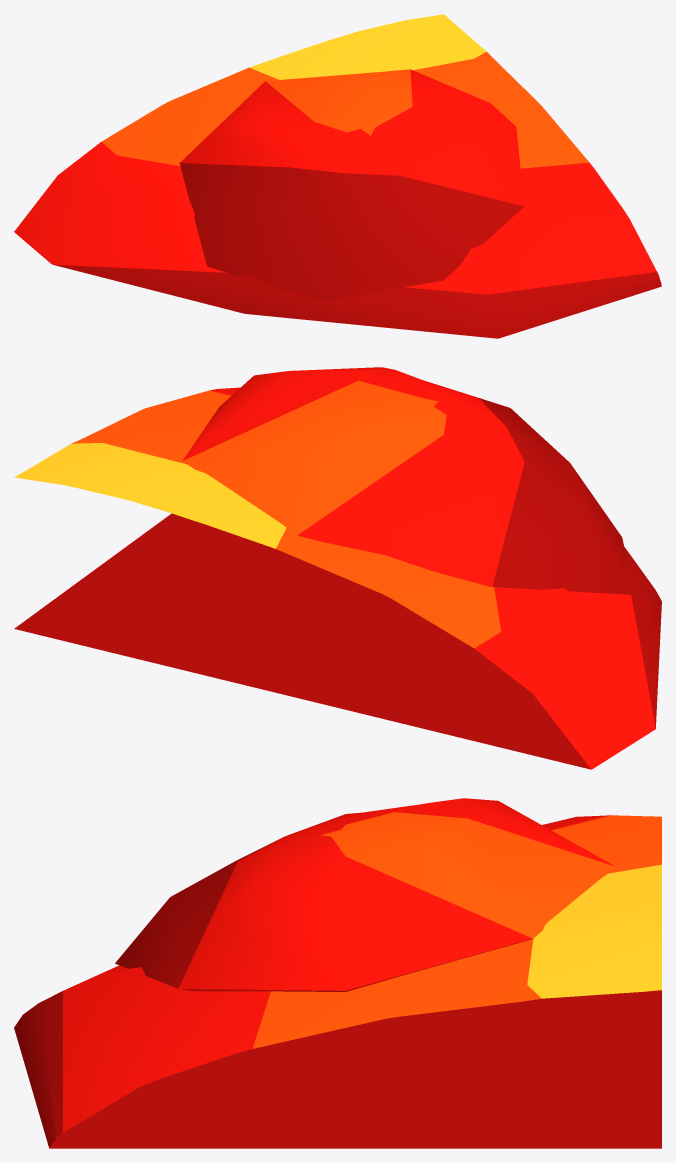
File: shot_zflame_216.glb
3 renders of one model, top to bottom at view 1: azimuth 30°, elevation 25°; view 2: azimuth 150°, elevation 25°; view 3: azimuth 270°, elevation 25°, orthographic. The views are drawn at different scales.
Parts seen in each view (by area): view 1: zflame_6_bed_b216, zflame_6_billow5_b216; view 2: zflame_6_bed_b216, zflame_6_billow5_b216; view 3: zflame_6_bed_b216, zflame_6_billow5_b216.
Boxes of the visible parts, x1=… form: zflame_6_bed_b216: x1=14, y1=14, x2=661, y2=338; zflame_6_billow5_b216: x1=179, y1=69, x2=524, y2=301; zflame_6_bed_b216: x1=14, y1=387, x2=661, y2=769; zflame_6_billow5_b216: x1=182, y1=367, x2=634, y2=594; zflame_6_bed_b216: x1=14, y1=815, x2=661, y2=1148; zflame_6_billow5_b216: x1=115, y1=798, x2=615, y2=991.
Size of the model in its own units: 7.81 by 2.47 by 7.17.
